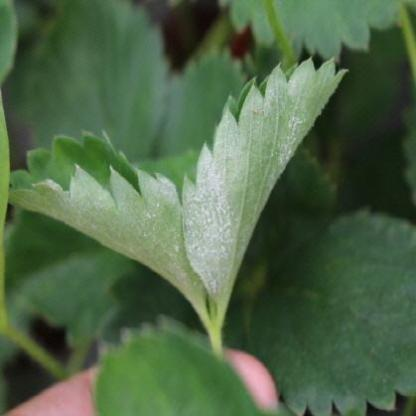Strawberry_Powdery_Mildew_Leaf: (180, 55, 350, 324), (6, 129, 210, 319)
